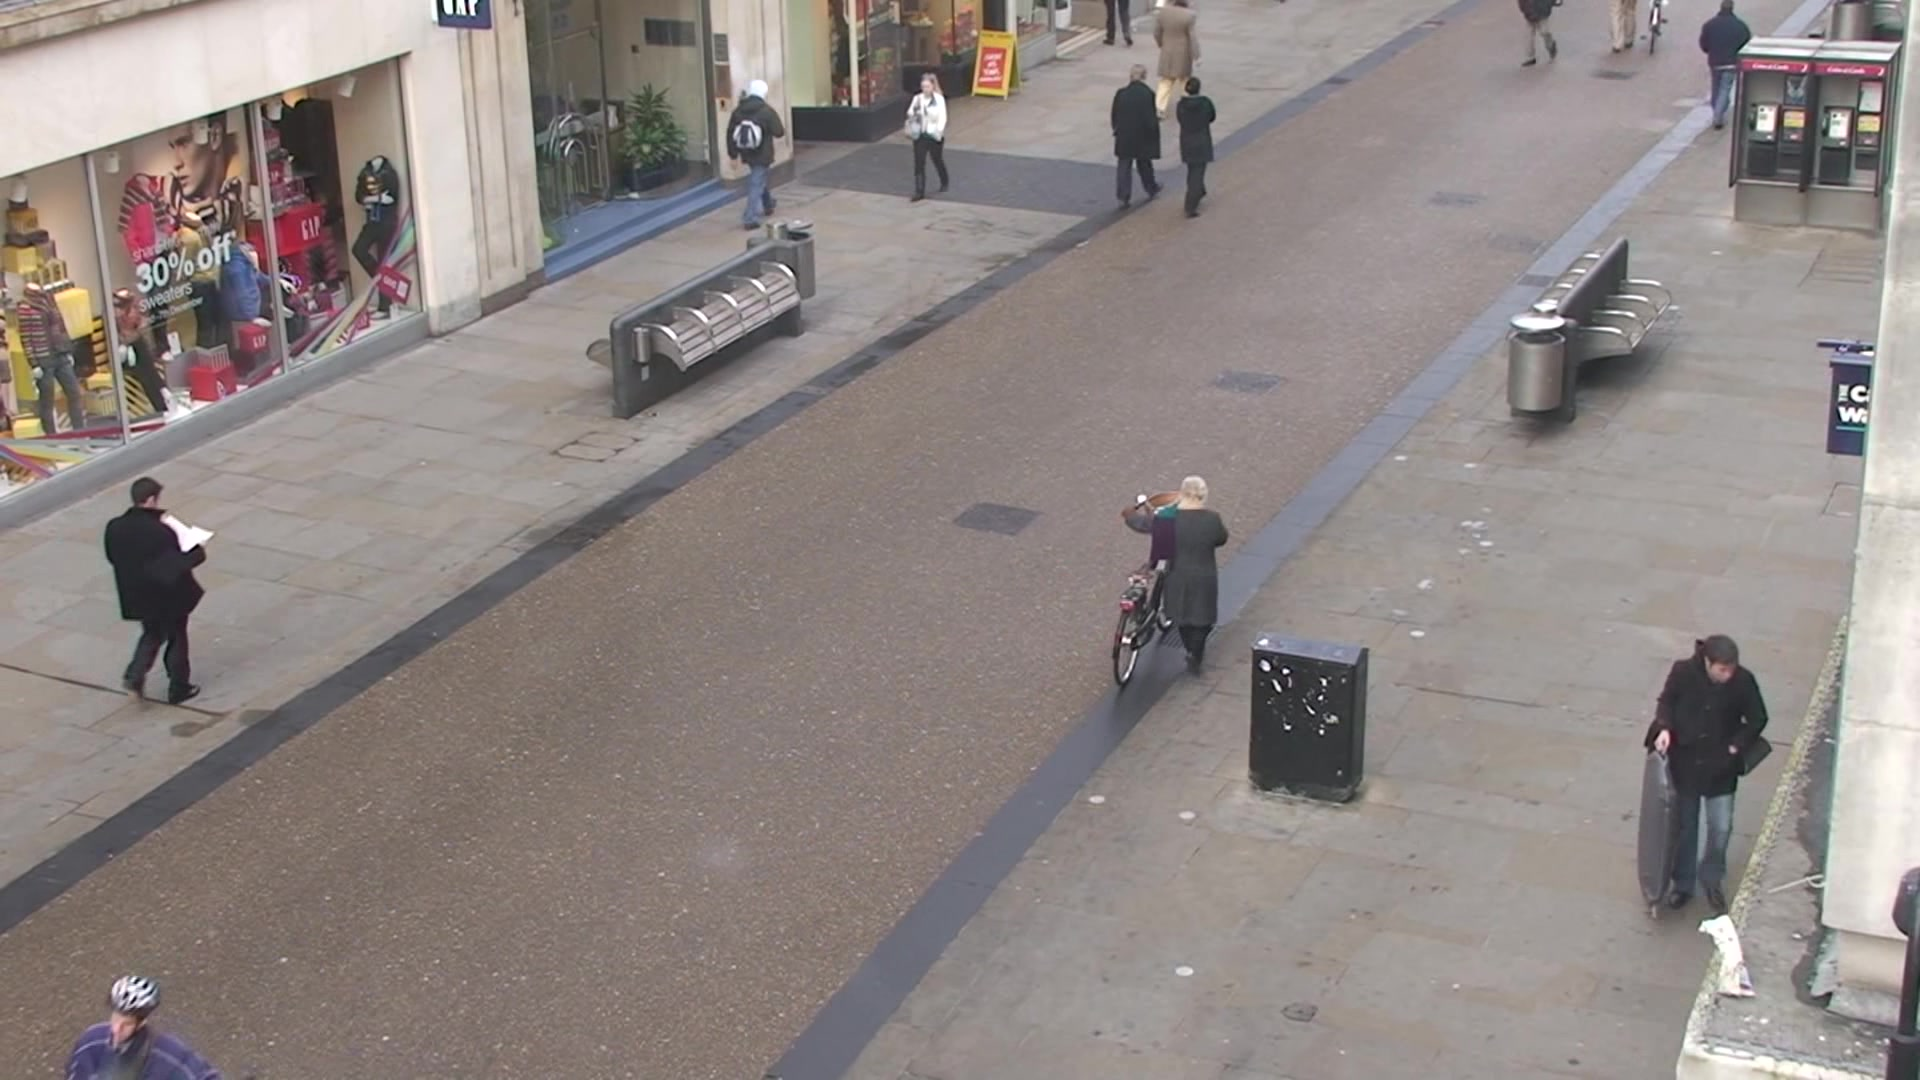person: (1645, 635, 1768, 915), (105, 477, 214, 707), (1124, 475, 1227, 679), (727, 80, 786, 231), (1111, 65, 1161, 215), (1697, 1, 1748, 127), (1175, 77, 1218, 219), (904, 70, 951, 202)
